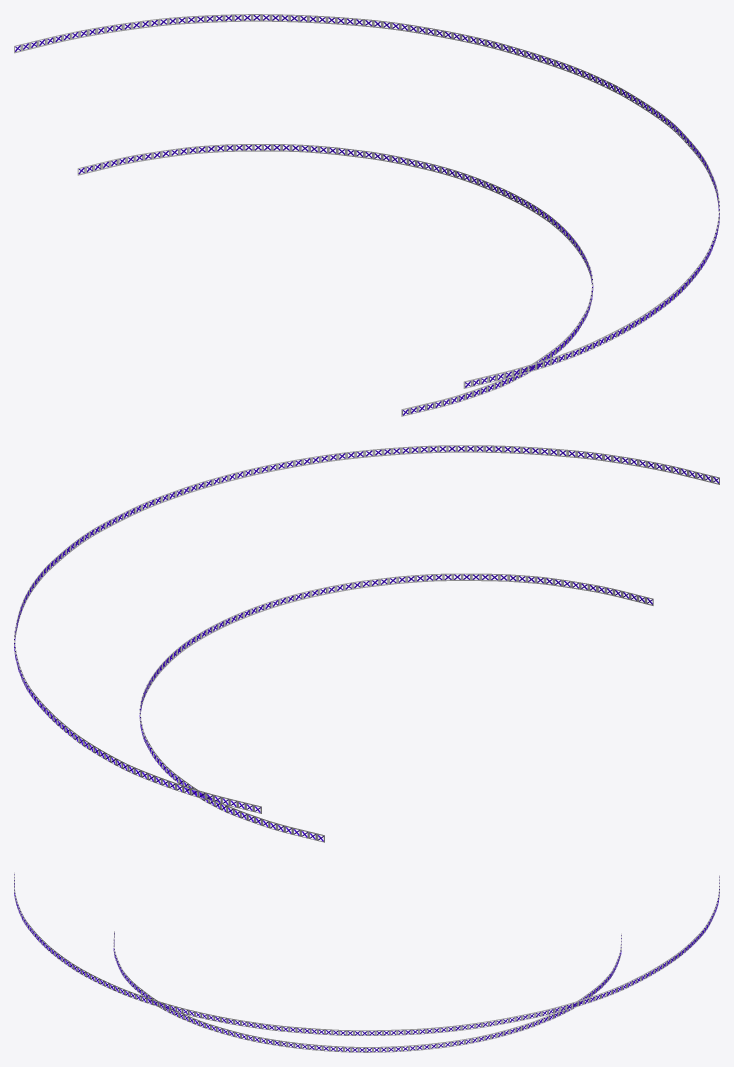
File: Barrieres_Michel.fbx
3 renders of one model, top to bottom at view 1: azimuth 30°, elevation 25°; view 2: azimuth 150°, elevation 25°; view 3: azimuth 270°, elevation 25°, orthographic. The views are drawn at different scales.
Bounding box in the file's own units: 4693 × 881 × 8779.
